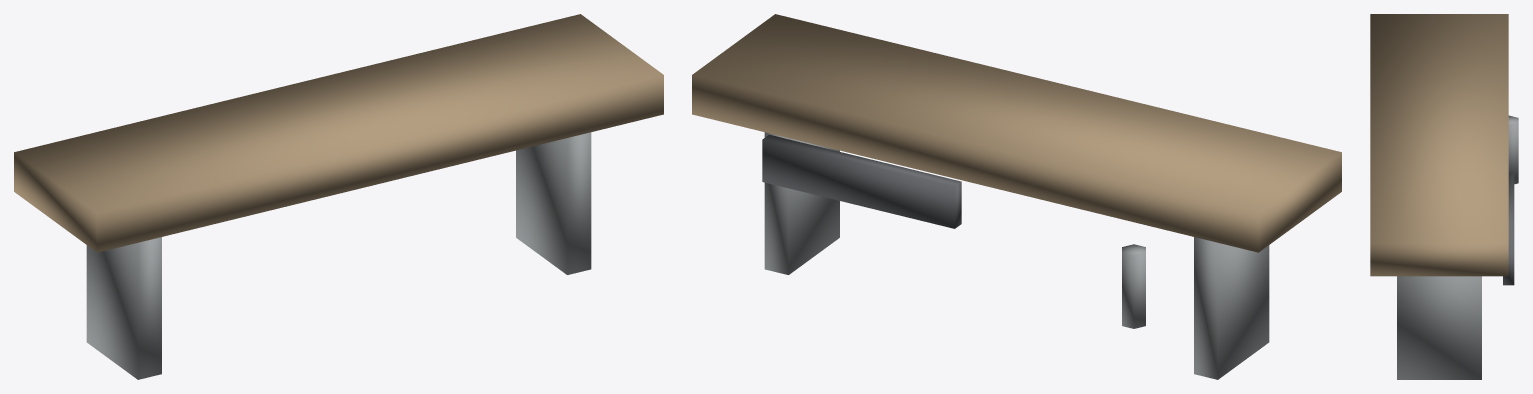
Rendered from gallery_bench__service.glb.
3 views of the same model, side by side, from view 1: azimuth 30°, elevation 25°; view 2: azimuth 150°, elevation 25°; view 3: azimuth 270°, elevation 25° (orthographic). The views are drawn at different scales.
Visible parts, largest first — view 1: world; view 2: world; view 3: world.
Part boxes in pixels (x1,y1,x2,y2): world: (14,14,663,379); world: (692,14,1341,379); world: (1370,14,1518,379).
Bounding box in the file's own units: 1.65 × 0.535 × 0.4503.
